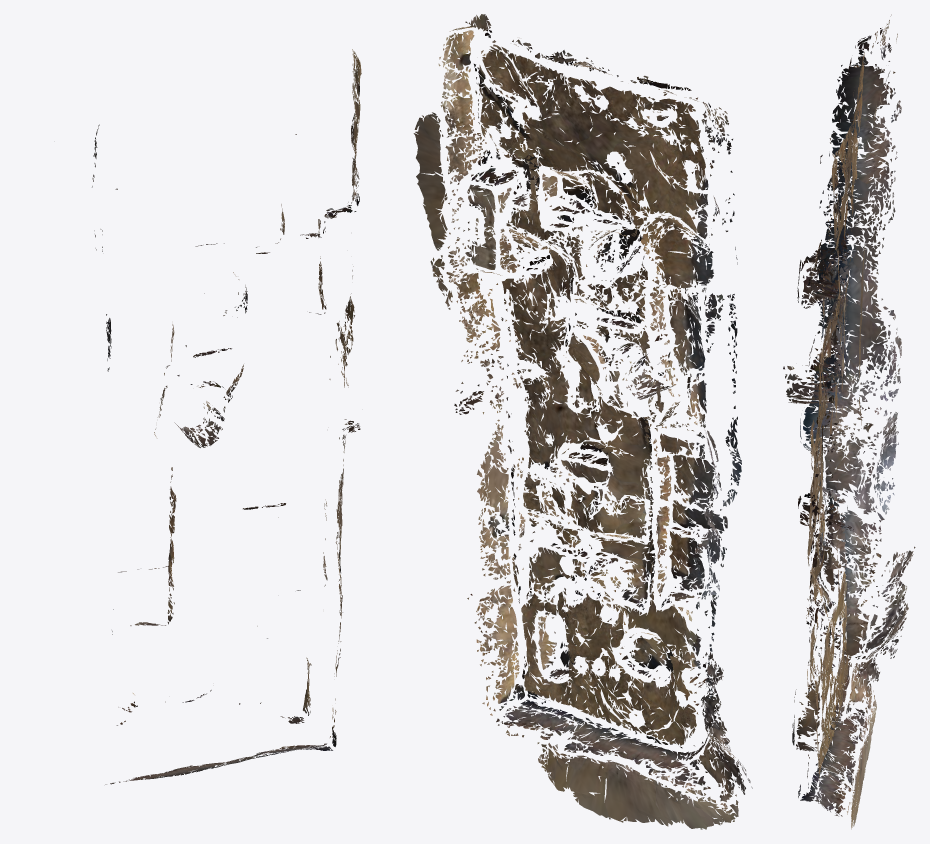
File: 00101_kokufuhakkutsu_tenpct.glb
3 renders of one model, left to right at view 1: azimuth 30°, elevation 25°; view 2: azimuth 150°, elevation 25°; view 3: azimuth 270°, elevation 25°, orthographic.
Parts seen in each view (by area): view 1: mesh; view 2: mesh; view 3: mesh.
Part boxes in pixels (x1,y1,x2,y2): mesh: [92, 49, 361, 784]; mesh: [413, 14, 752, 829]; mesh: [783, 14, 915, 829].
Bounding box in the file's own units: 0.9063 × 1.91 × 0.3008.
Materials: 1 (1 with a texture image).
